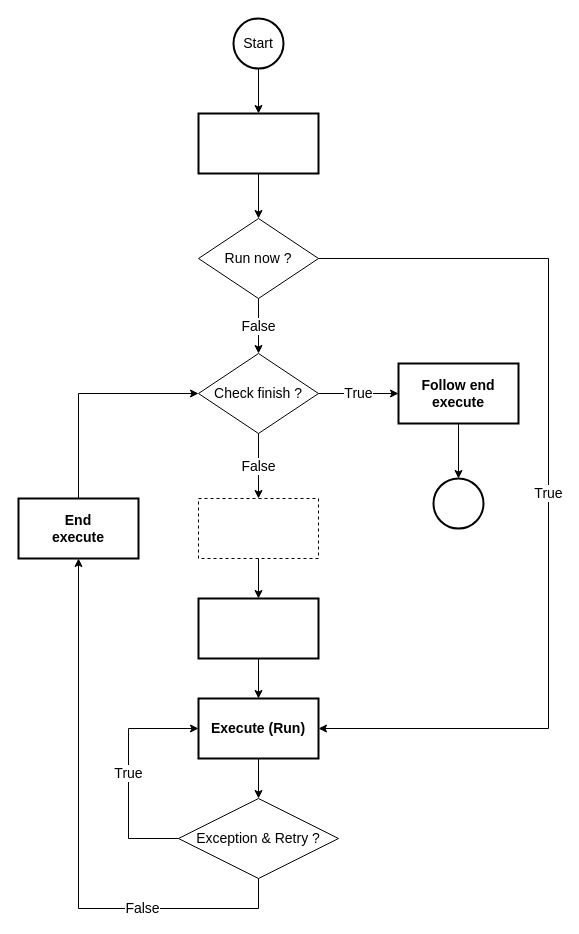
Some shapes in this 579 by 934 pixel diagram are drawn without their labels. Each missing label, with the centre of its shape:
Before start execute: [258,143]
Finish: [458,503]
Start execute: [258,628]
Wait to next run: [258,528]
